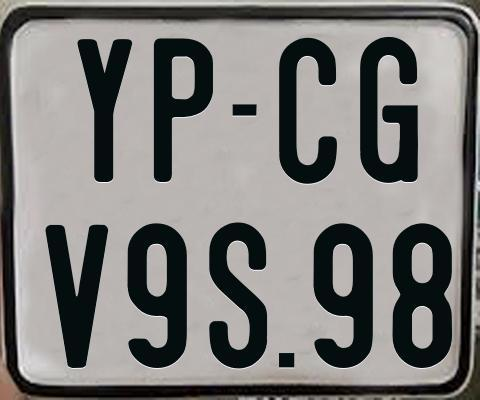8: (392, 220, 456, 367)
9: (313, 223, 377, 373), (124, 222, 186, 373)
C: (279, 36, 343, 184)
G: (357, 37, 420, 184)
P: (154, 35, 214, 184)
S: (207, 221, 267, 367)
V: (45, 222, 108, 365)
Y: (77, 36, 135, 179)
